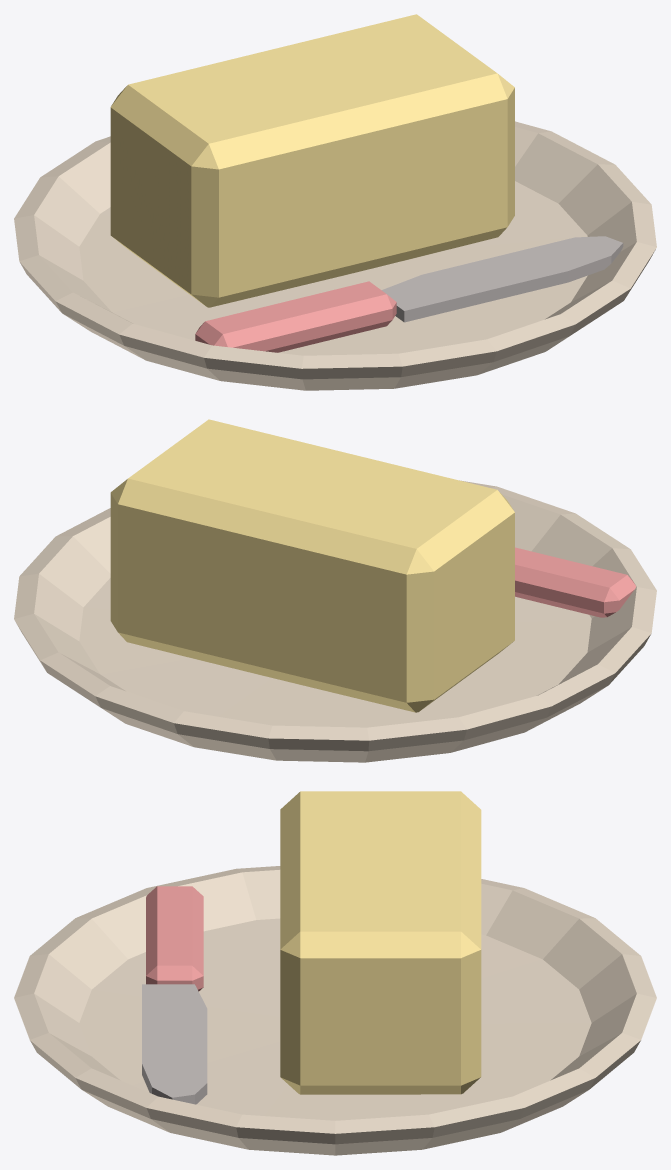
File: 20-butter-block-and-knife.glb
3 views of the same model, one above another, from view 1: azimuth 30°, elevation 25°; view 2: azimuth 150°, elevation 25°; view 3: azimuth 270°, elevation 25° (orthographic).
Parts seen in each view (by area): view 1: Butter block, Faceted shallow plate, Pink knife handle; view 2: Butter block, Faceted shallow plate, Pink knife handle; view 3: Faceted shallow plate, Butter block, Pink knife handle.
Boxes of the visible parts, left/top/right/bottom form: Butter block: left=110, top=14, right=514, bottom=307; Faceted shallow plate: left=14, top=121, right=656, bottom=390; Pink knife handle: left=195, top=236, right=623, bottom=352; Butter block: left=110, top=419, right=514, bottom=712; Faceted shallow plate: left=14, top=480, right=656, bottom=762; Pink knife handle: left=515, top=547, right=636, bottom=617; Faceted shallow plate: left=14, top=866, right=656, bottom=1155; Butter block: left=280, top=791, right=481, bottom=1094; Pink knife handle: left=142, top=886, right=207, bottom=1104.
Size of the model in its own units: 2.56 by 0.82 by 2.56.
